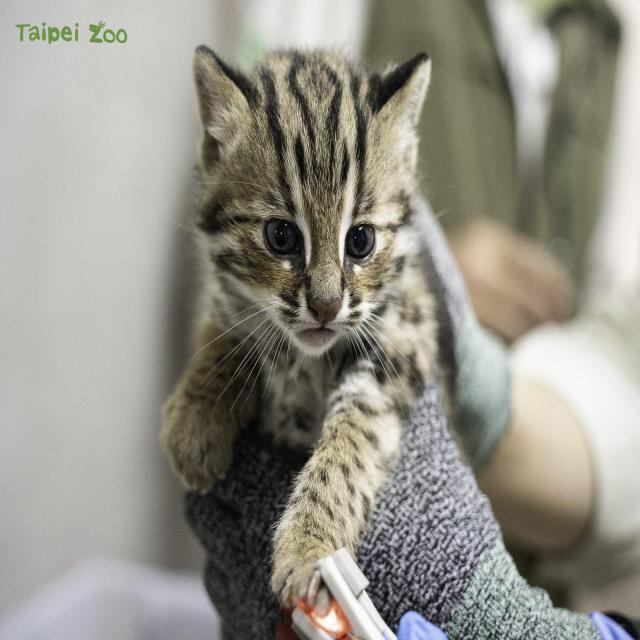leopard: (191, 36, 431, 466)
